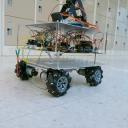cart: (14, 22, 109, 98)
